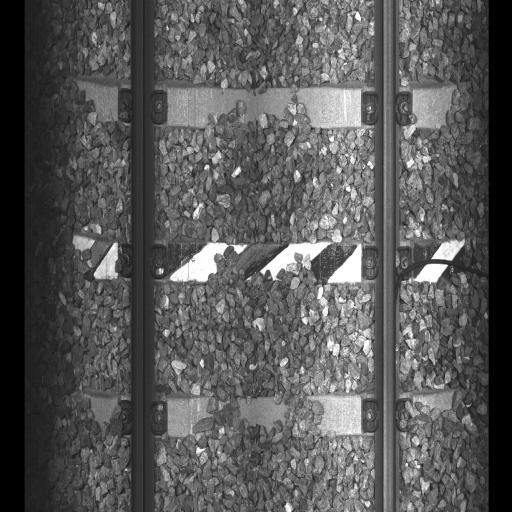sleeper: (66, 73, 463, 142), (64, 228, 466, 293), (65, 385, 465, 446)
